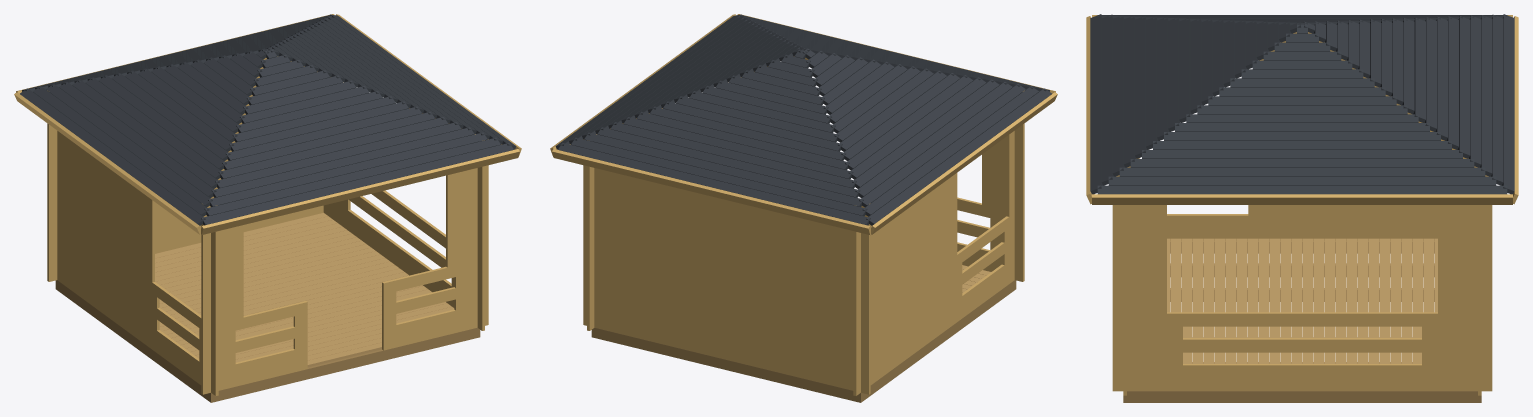
The model's file is софи_3_5_3_5_34_мм_шатровая_беседка.glb.
The picture shows the model from 3 angles, left to right: view 1: azimuth 30°, elevation 25°; view 2: azimuth 150°, elevation 25°; view 3: azimuth 270°, elevation 25°; orthographic projection. The views are drawn at different scales.
Parts seen in each view (by area): view 1: roof, walls, floor, Софи 3,5×3,5 (34 мм, шатровая беседка); view 2: walls, roof, Софи 3,5×3,5 (34 мм, шатровая беседка); view 3: roof, walls, floor, Софи 3,5×3,5 (34 мм, шатровая беседка).
Part boxes in pixels (left/top/right/bottom): roof: left=14, top=14, right=521, bottom=234; walls: left=47, top=56, right=488, bottom=395; floor: left=155, top=213, right=454, bottom=367; Софи 3,5×3,5 (34 мм, шатровая беседка): left=55, top=280, right=480, bottom=402; walls: left=583, top=56, right=1024, bottom=395; roof: left=550, top=14, right=1057, bottom=234; Софи 3,5×3,5 (34 мм, шатровая беседка): left=591, top=280, right=1016, bottom=402; roof: left=1086, top=14, right=1518, bottom=204; walls: left=1112, top=32, right=1492, bottom=395; floor: left=1167, top=238, right=1437, bottom=363; Софи 3,5×3,5 (34 мм, шатровая беседка): left=1123, top=241, right=1481, bottom=402.
Bounding box in the file's own units: 3.98 × 3.09 × 3.98.
